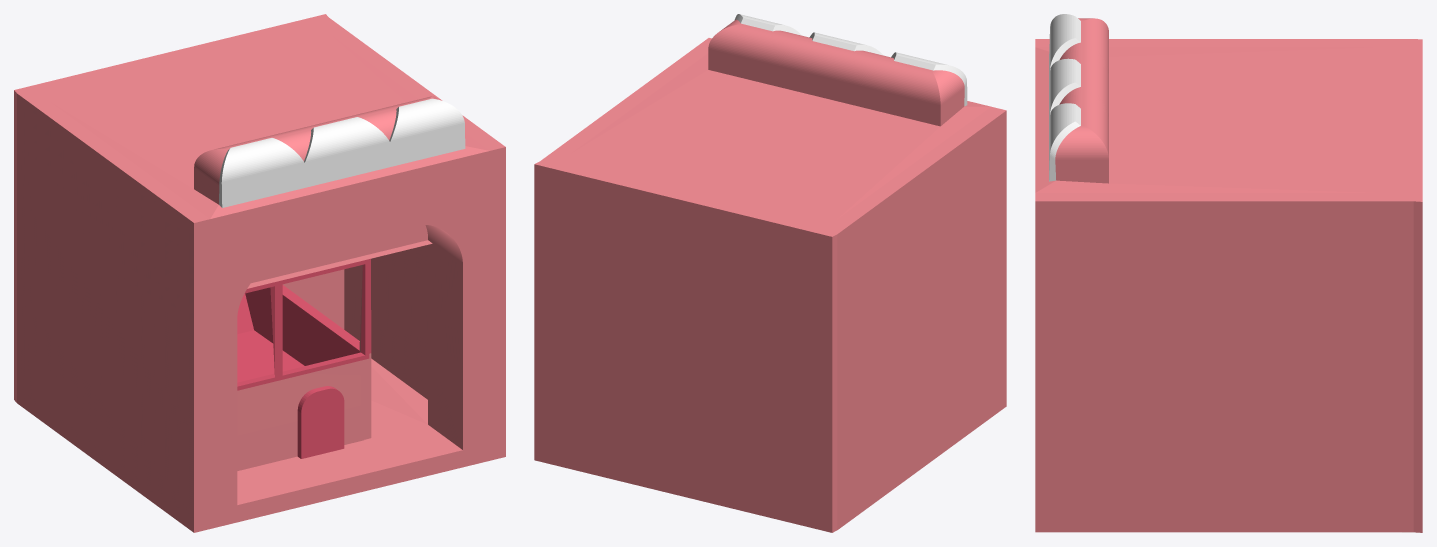
3 renders of one model, left to right at view 1: azimuth 30°, elevation 25°; view 2: azimuth 150°, elevation 25°; view 3: azimuth 270°, elevation 25°, orthographic. The views are drawn at different scales.
Parts seen in each view (by area): view 1: B2; view 2: B2; view 3: B2.
Boxes of the visible parts, bbox=[...] form: B2: bbox=[14, 14, 505, 532]; B2: bbox=[534, 14, 1006, 532]; B2: bbox=[1035, 14, 1422, 532].
Bounding box in the file's own units: 5038 × 5505 × 5055.
